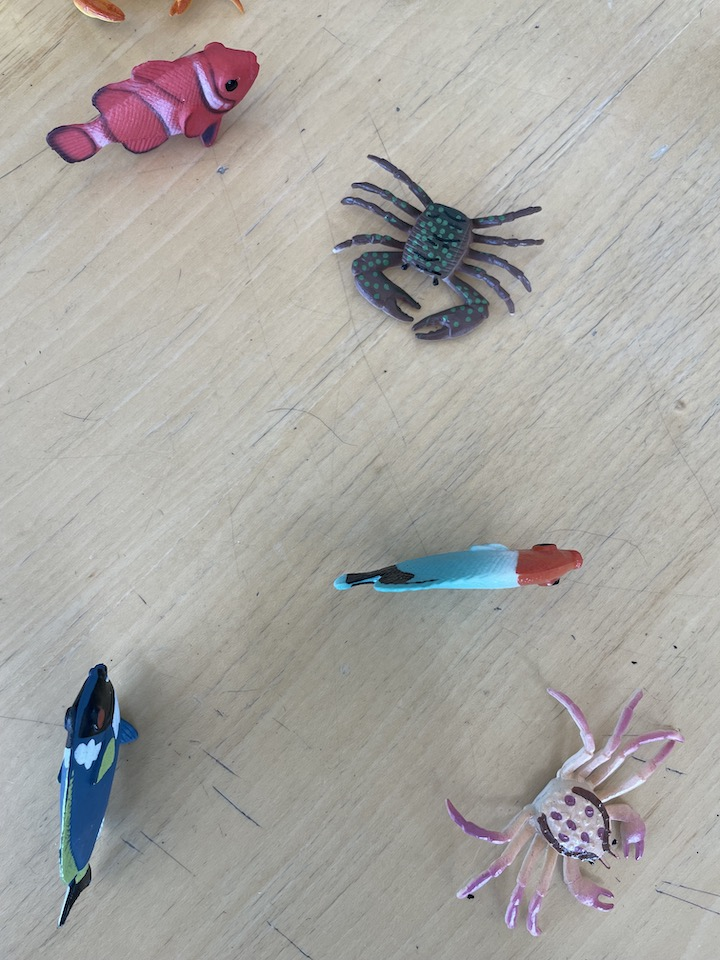crab: (448, 683, 685, 942), (330, 150, 552, 345), (68, 1, 248, 26)
fish: (41, 42, 266, 168), (50, 661, 139, 932), (328, 533, 589, 601)
